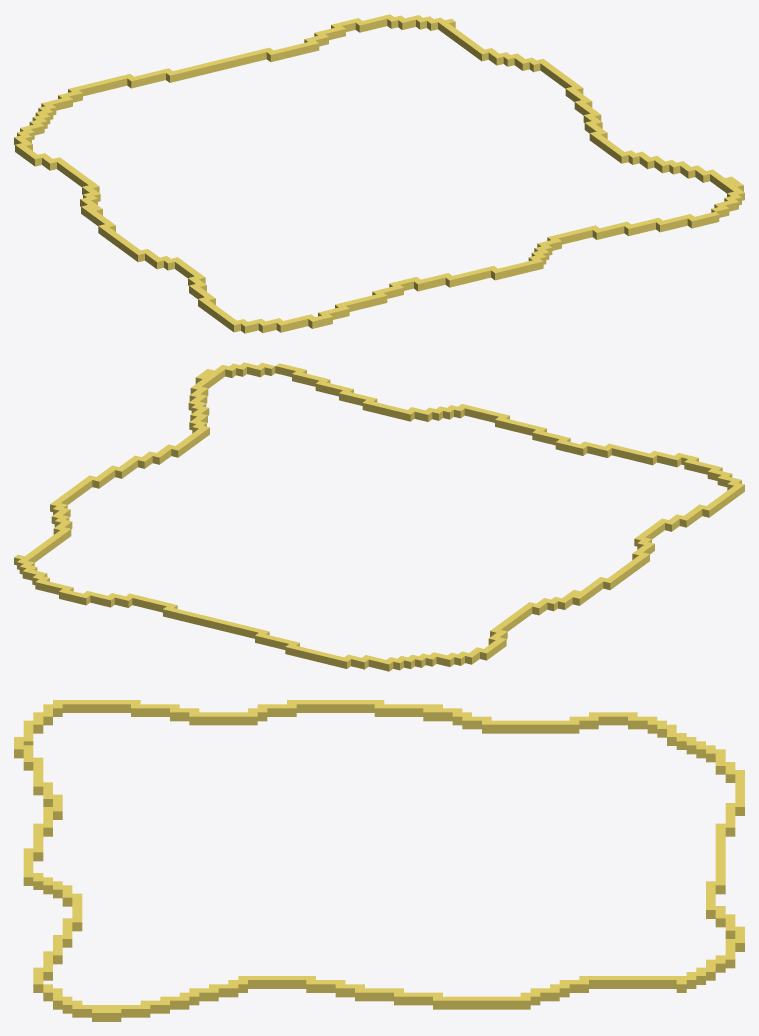
File: beach_2_overtile.obj
3 views of the same model, one above another, from view 1: azimuth 30°, elevation 25°; view 2: azimuth 150°, elevation 25°; view 3: azimuth 270°, elevation 25° (orthographic). The views are drawn at different scales.
Bounding box in the file's own units: 7.6 × 0.1 × 7.5.
1 material, 1 textured.
